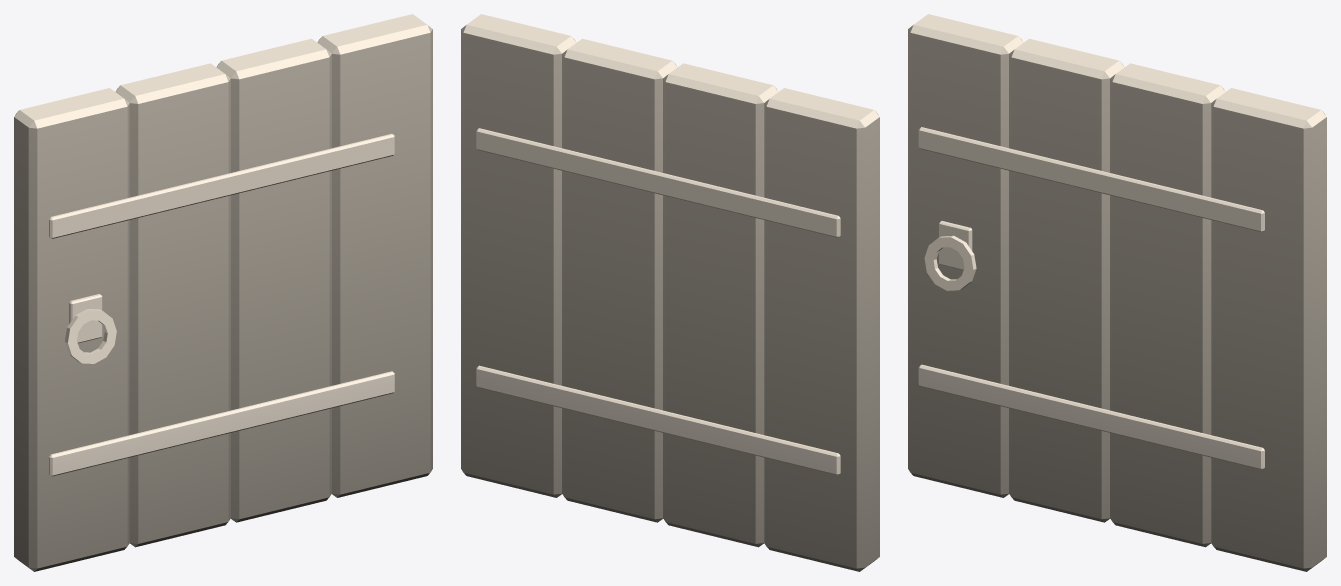
The model's file is SM_VKI_Leaf_Wide_Cut_R.fbx.
The picture shows the model from 3 angles, left to right: view 1: azimuth 30°, elevation 25°; view 2: azimuth 150°, elevation 25°; view 3: azimuth 330°, elevation 25°; orthographic projection.
Parts seen in each view (by area): view 1: SM_VKI_Leaf_Wide_Cut_R.001; view 2: SM_VKI_Leaf_Wide_Cut_R.001; view 3: SM_VKI_Leaf_Wide_Cut_R.001.
Part boxes in pixels (box(x1,y1,x2,y2)): SM_VKI_Leaf_Wide_Cut_R.001: box(14, 14, 432, 571); SM_VKI_Leaf_Wide_Cut_R.001: box(461, 14, 879, 571); SM_VKI_Leaf_Wide_Cut_R.001: box(908, 14, 1326, 571).
Size of the model in its own units: 0.89 by 0.95 by 0.1309.
